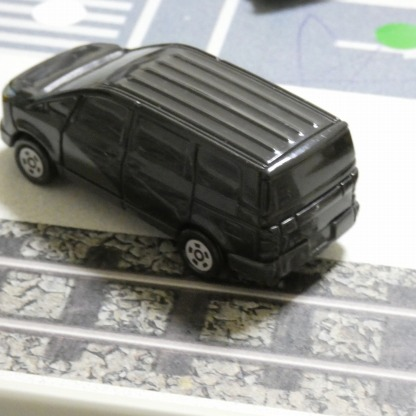car: (5, 39, 360, 290)
